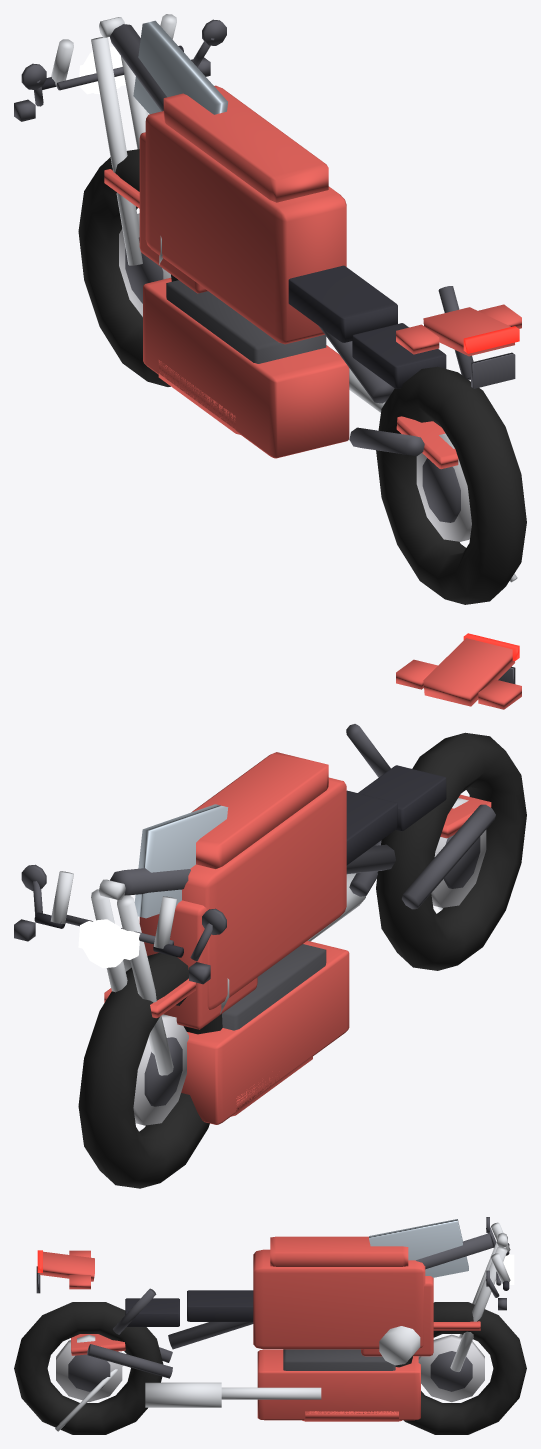
Rendered from bike_sportbike.glb.
3 views of the same model, one above another, from view 1: azimuth 30°, elevation 25°; view 2: azimuth 150°, elevation 25°; view 3: azimuth 270°, elevation 25° (orthographic). The views are drawn at different scales.
Parts seen in each view (by area): view 1: Tank, Tire1, BellyFull, TankTop, Tire0, Seat, Engine, Screen, Fork-1, SeatRear, FrameMain, Tail (+13 smaller); view 2: Tank, Tire1, Tire0, BellyFull, TankTop, Screen, Nacelle, Tail, Engine, SeatRear, Swingarm_R, Seat (+15 smaller); view 3: Tank, Tire1, BellyFull, Tire0, TankTop, Screen, Engine, Seat, FrameMain, ExhCan, Rim0, Rim1 (+16 smaller).
Boxes of the visible parts, x1=… form: Tank: x1=145, y1=111, x2=346, y2=344; Tire1: x1=376, y1=366, x2=526, y2=604; BellyFull: x1=143, y1=277, x2=349, y2=458; TankTop: x1=163, y1=85, x2=328, y2=202; Tire0: x1=78, y1=149, x2=178, y2=386; Seat: x1=288, y1=265, x2=397, y2=342; Engine: x1=166, y1=280, x2=326, y2=363; Screen: x1=133, y1=20, x2=227, y2=114; Fork-1: x1=91, y1=37, x2=142, y2=265; SeatRear: x1=352, y1=323, x2=446, y2=388; FrameMain: x1=110, y1=24, x2=394, y2=403; Tail: x1=423, y1=307, x2=514, y2=356; Tank: x1=182, y1=777, x2=346, y2=1009; Tire1: x1=376, y1=732, x2=526, y2=970; Tire0: x1=78, y1=953, x2=222, y2=1188; BellyFull: x1=181, y1=940, x2=349, y2=1124; TankTop: x1=191, y1=752, x2=328, y2=868; Screen: x1=134, y1=804, x2=228, y2=918; Nacelle: x1=139, y1=900, x2=257, y2=1029; Tail: x1=423, y1=638, x2=514, y2=706; Engine: x1=222, y1=944, x2=326, y2=1030; SeatRear: x1=358, y1=765, x2=446, y2=831; Swingarm_R: x1=402, y1=804, x2=495, y2=909; Seat: x1=346, y1=790, x2=397, y2=865; Tank: x1=253, y1=1249, x2=425, y2=1349; Tire1: x1=14, y1=1302, x2=163, y2=1434; BellyFull: x1=257, y1=1349, x2=420, y2=1420; Tire0: x1=395, y1=1302, x2=526, y2=1434; TankTop: x1=270, y1=1236, x2=408, y2=1266; Screen: x1=369, y1=1219, x2=468, y2=1277; Engine: x1=283, y1=1349, x2=395, y2=1370; Seat: x1=187, y1=1290, x2=253, y2=1321; FrameMain: x1=168, y1=1233, x2=494, y2=1349; ExhCan: x1=145, y1=1382, x2=221, y2=1407; Rim0: x1=418, y1=1334, x2=484, y2=1402; Rim1: x1=56, y1=1334, x2=122, y2=1402.
Bounding box in the file's own units: 0.7856 × 1.3 × 2.83.
